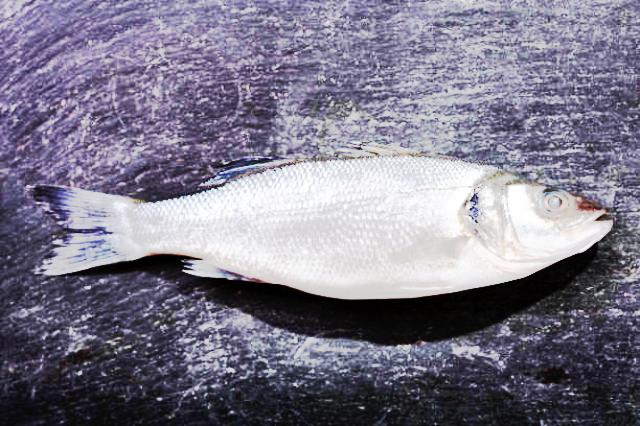Healthy Fish: (26, 156, 614, 303)
